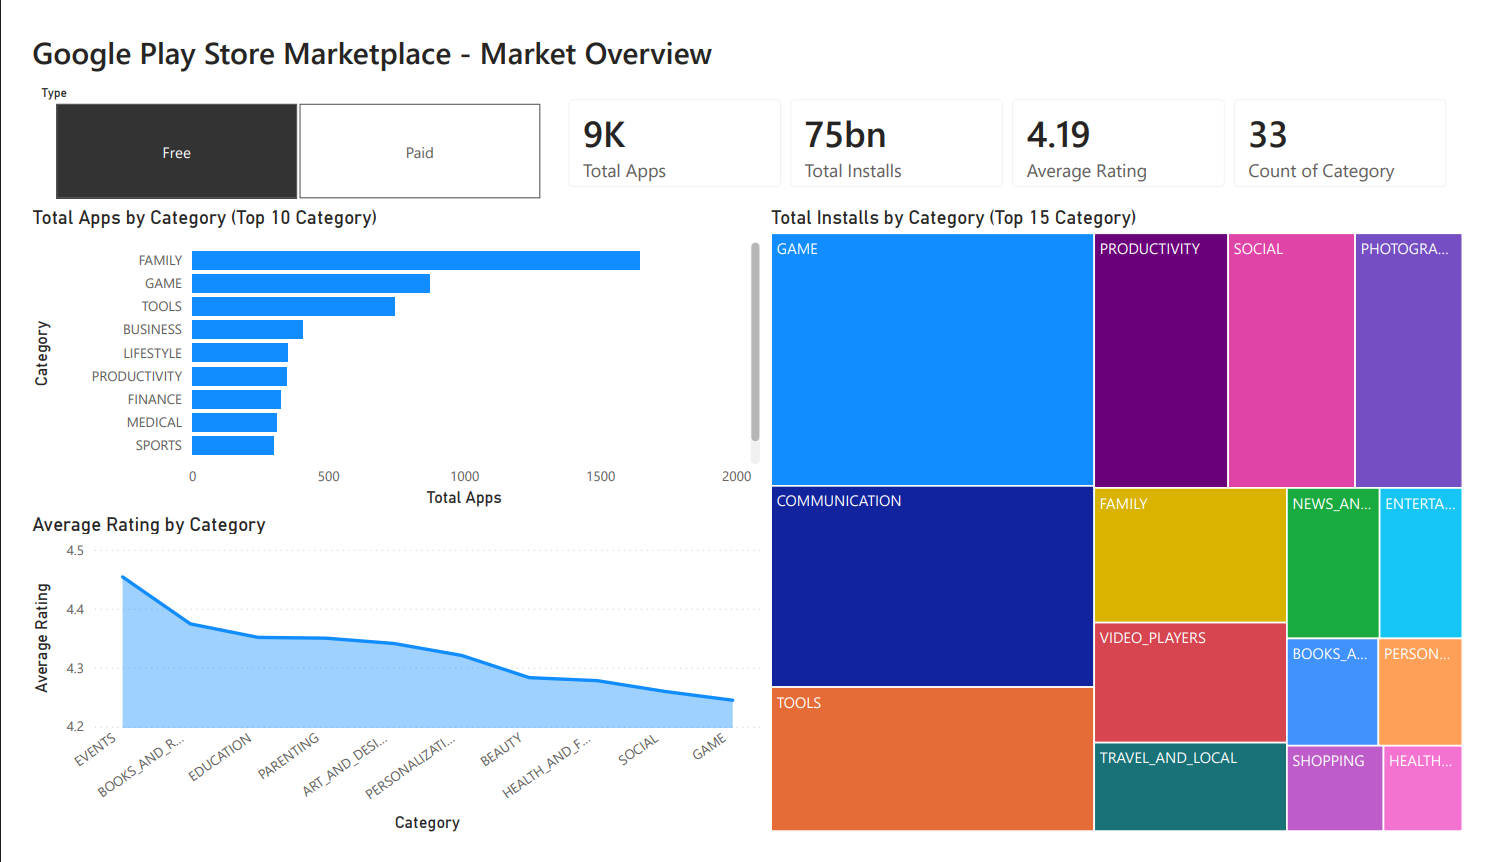

What the dashboard file says about the page in this screenshot:
{"tool":"powerbi","page":{"name":"Market Overview","canvas":[1280,720],"ordinal":0},"visuals":[{"type":"textbox","box":[0,0,1280,48],"z":0},{"type":"slicer","fields":{"Values":["Play Store Data.Type"]},"box":[0,48,480,112],"z":1000},{"type":"cardVisual","fields":{"Data":["Play Store Data.Total Apps","Play Store Data.Total Installs","Play Store Data.Average Rating","Count(Play Store Data.Category)"]},"box":[464,48,816,112],"z":2000},{"type":"clusteredBarChart","title":"Total Apps by Category (Top 10 Category)","fields":{"Category":["Play Store Data.Category"],"Y":["Play Store Data.Total Apps"]},"box":[0,160,656,272],"z":3000},{"type":"treemap","title":"Total Installs by Category (Top 15 Category)","fields":{"Values":["Play Store Data.Total Installs"],"Group":["Play Store Data.Category"]},"box":[656,160,624,560],"z":4000},{"type":"areaChart","fields":{"Category":["Play Store Data.Category"],"Y":["Play Store Data.Average Rating"]},"box":[0,432,656,288],"z":5000}]}

Visuals, with their boxes in screenshot pixels (x1, y1, x2, y2), scaled from the page's 1280x720 canvas onto the 1493x862 screenshot:
textbox: region(0, 0, 1492, 57)
slicer - Play Store Data.Type: region(0, 57, 560, 192)
cardVisual - Play Store Data.Total Apps x Play Store Data.Total Installs: region(541, 57, 1492, 192)
"Total Apps by Category (Top 10 Category)" clusteredBarChart: region(0, 192, 765, 517)
"Total Installs by Category (Top 15 Category)" treemap: region(765, 192, 1492, 861)
areaChart - Play Store Data.Category x Play Store Data.Average Rating: region(0, 517, 765, 861)
